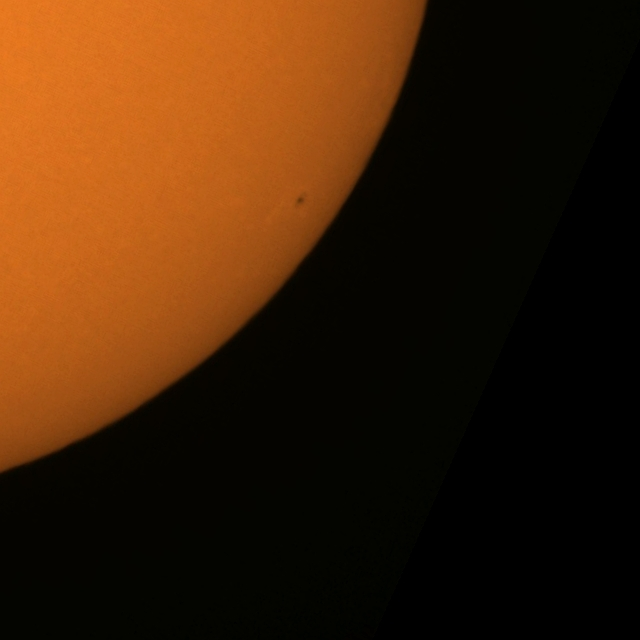sunspot: (295, 192, 308, 208)
